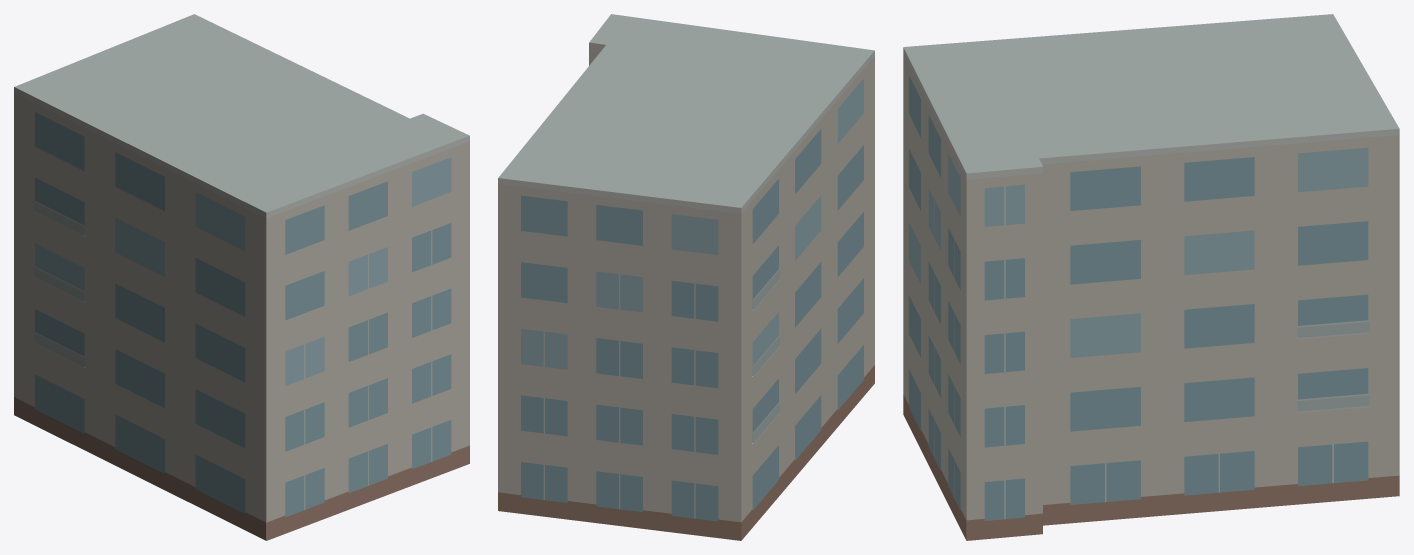
The model's file is survey-upis-32526491.glb.
3 views of the same model, side by side, from view 1: azimuth 30°, elevation 25°; view 2: azimuth 150°, elevation 25°; view 3: azimuth 270°, elevation 25° (orthographic). The views are drawn at different scales.
Visible parts, largest first — view 1: survey-upis-32526491.tmp; view 2: survey-upis-32526491.tmp; view 3: survey-upis-32526491.tmp.
Part boxes in pixels (x1,y1,x2,y2): survey-upis-32526491.tmp: [14, 14, 469, 540]; survey-upis-32526491.tmp: [498, 14, 874, 540]; survey-upis-32526491.tmp: [903, 14, 1399, 540].
Bounding box in the file's own units: 13.42 × 14.4 × 17.64.
